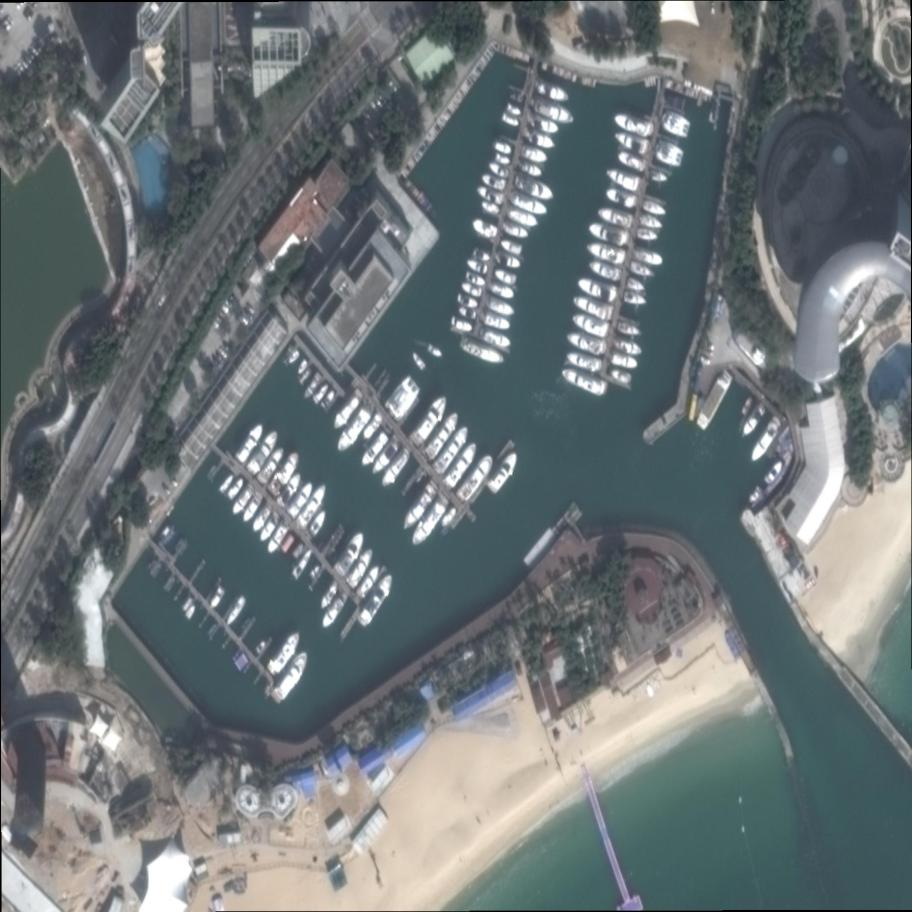ship: (404, 392, 453, 451), (265, 647, 313, 706), (693, 369, 736, 432), (355, 571, 399, 630), (397, 478, 443, 534), (408, 492, 452, 550), (333, 400, 377, 457), (453, 452, 499, 505), (420, 410, 463, 464), (430, 423, 473, 476), (263, 448, 305, 499), (263, 629, 305, 679), (440, 439, 481, 490), (291, 481, 332, 532), (557, 363, 612, 400), (483, 448, 524, 497), (243, 428, 283, 478), (330, 529, 370, 579), (747, 414, 785, 465), (527, 93, 578, 130), (330, 387, 366, 434), (510, 170, 558, 205), (342, 545, 378, 591), (367, 434, 404, 478), (458, 335, 507, 368), (377, 447, 413, 491), (233, 420, 268, 464), (507, 188, 552, 221), (564, 327, 610, 359), (284, 479, 318, 522), (586, 217, 633, 248), (254, 444, 287, 487), (575, 273, 620, 304), (611, 109, 657, 139), (571, 292, 616, 322), (319, 589, 351, 631), (656, 107, 695, 141), (358, 430, 391, 470), (570, 310, 613, 339), (585, 238, 629, 266), (651, 138, 688, 171), (353, 563, 384, 602), (739, 401, 770, 439), (563, 348, 605, 376), (604, 164, 644, 193), (612, 127, 652, 156), (276, 471, 306, 509), (532, 77, 572, 105), (596, 202, 636, 230), (476, 324, 515, 352), (603, 184, 641, 211), (264, 520, 292, 556), (256, 509, 283, 546), (521, 126, 558, 153), (230, 482, 257, 518), (505, 205, 542, 231), (587, 258, 624, 283), (239, 491, 265, 526), (479, 309, 514, 334), (484, 294, 518, 319), (610, 335, 644, 360), (615, 148, 649, 173), (526, 112, 561, 136), (469, 215, 501, 241), (224, 595, 249, 628), (290, 547, 315, 580), (517, 142, 550, 167), (250, 501, 275, 533), (631, 245, 665, 268), (608, 350, 641, 373), (304, 509, 329, 539), (486, 278, 517, 302), (627, 259, 659, 282), (361, 413, 386, 442), (479, 169, 510, 192), (515, 157, 546, 180), (474, 183, 506, 205), (761, 459, 787, 486), (493, 249, 523, 272), (301, 372, 324, 401), (501, 220, 531, 242), (319, 580, 341, 610), (621, 289, 650, 310), (448, 314, 476, 335), (607, 365, 635, 386), (640, 198, 668, 219), (637, 212, 665, 233), (225, 476, 247, 501), (615, 320, 643, 339), (492, 266, 518, 286), (455, 291, 481, 310), (498, 236, 524, 255), (634, 226, 660, 245), (465, 257, 490, 276), (463, 270, 488, 289), (487, 160, 512, 179), (624, 276, 649, 295), (208, 585, 227, 610), (439, 505, 459, 528), (479, 198, 503, 217), (311, 382, 330, 406), (319, 388, 338, 411), (647, 168, 671, 186), (492, 138, 515, 156), (460, 281, 484, 298), (218, 473, 236, 494), (471, 247, 493, 264), (500, 112, 521, 128), (746, 486, 763, 505), (294, 358, 311, 376), (457, 306, 478, 320), (286, 349, 302, 367), (426, 343, 445, 358), (412, 351, 427, 370), (505, 103, 524, 118), (183, 604, 198, 621), (494, 153, 512, 167), (254, 639, 268, 653), (182, 597, 194, 611)
storage-tank: (832, 145, 848, 166)
